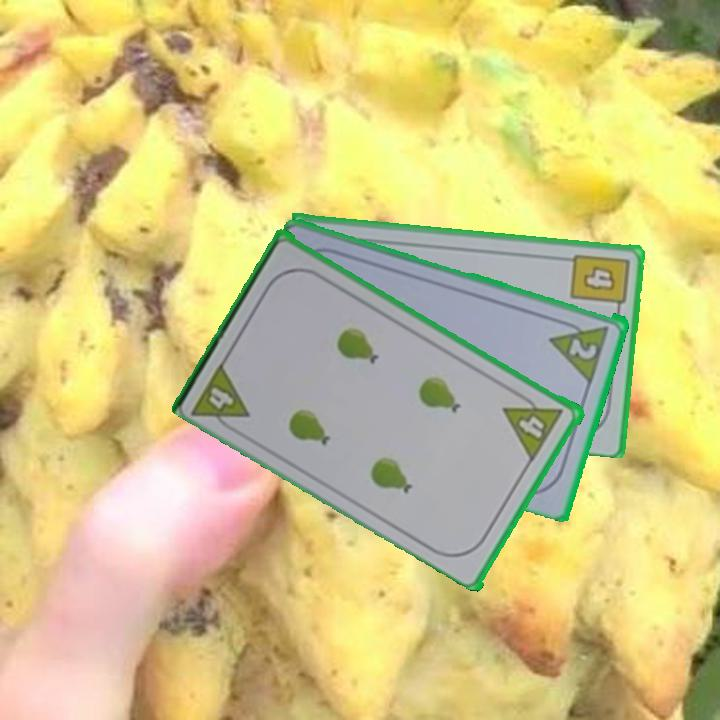2p: (547, 314, 613, 383)
4b: (567, 250, 632, 316)
4p: (188, 357, 254, 438), (500, 387, 567, 463)
